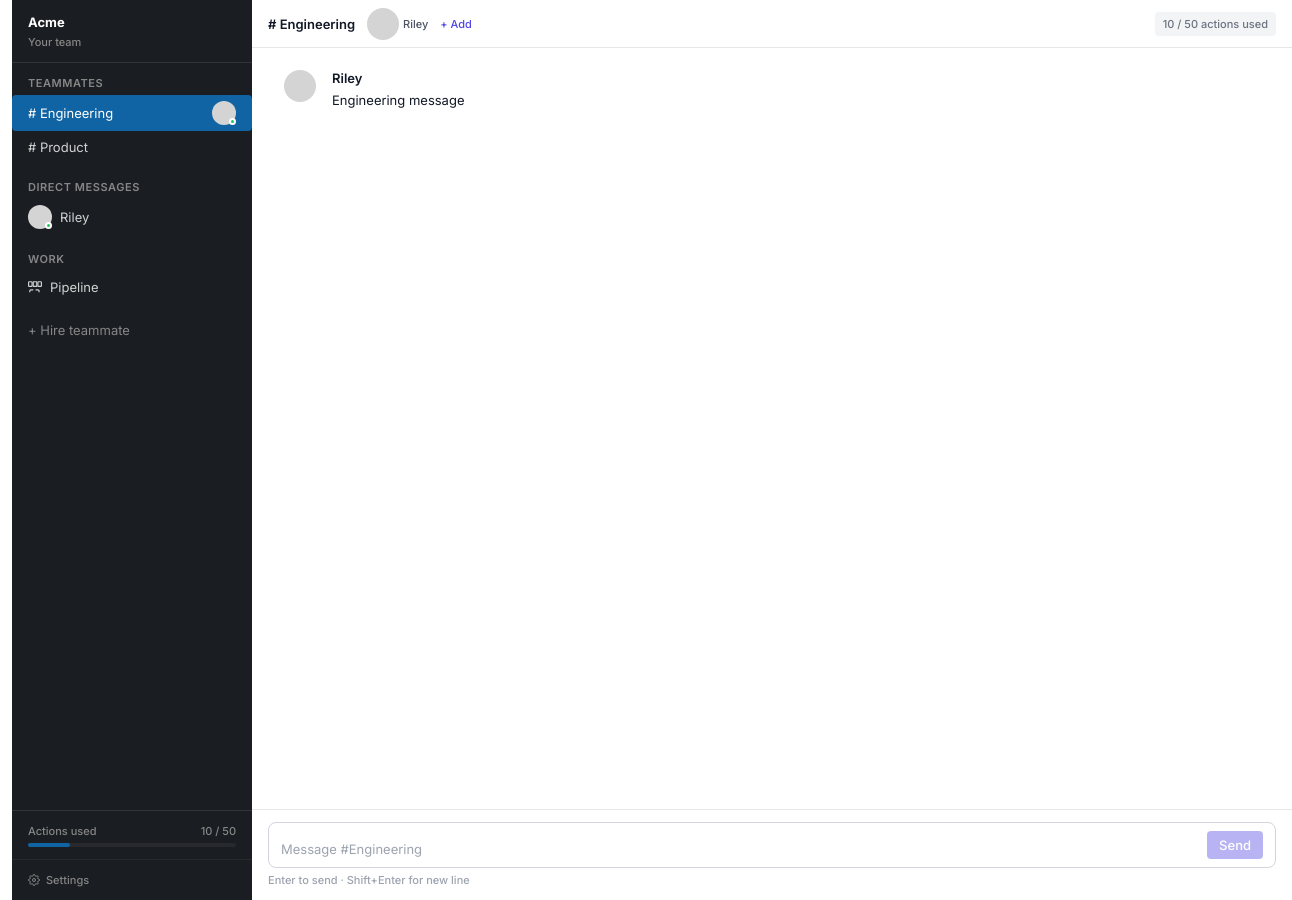
Test case: WorkspaceShell — channel switching › restores messages when switching back to a channel (regression guard)
Expected: the text "Engineering message" is shown, [332,92,464,108]
// Switch to #product
Click the button with test id "channel-ch-2": (132, 147) [12,131,252,163]
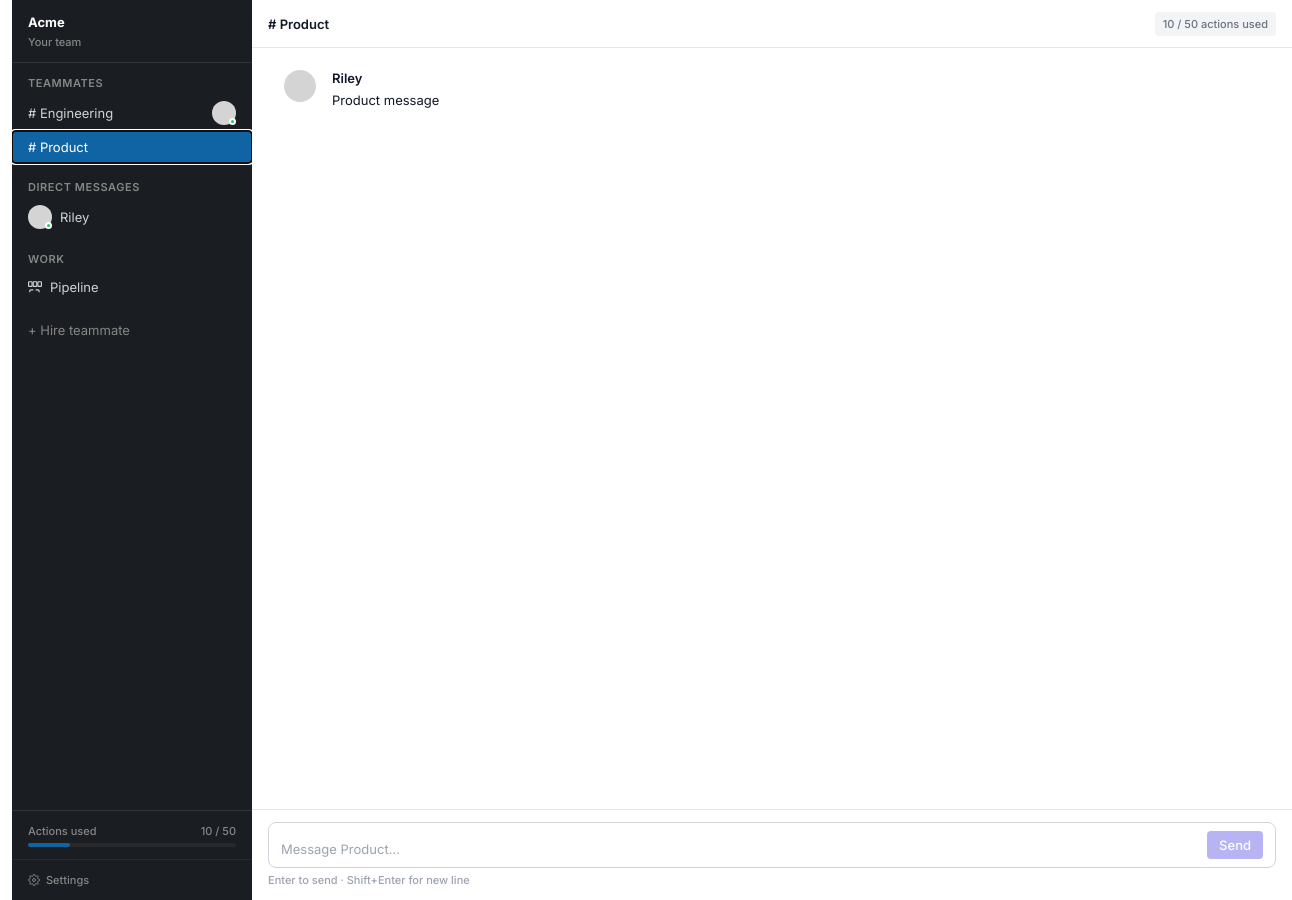
Expected: the text "Product message" is shown, [332,92,439,108]
Expected: the text "Engineering message" is gone
// Switch back to #engineering — messages MUST reappear
Click the button with test id "channel-ch-1": (132, 113) [12,95,252,131]
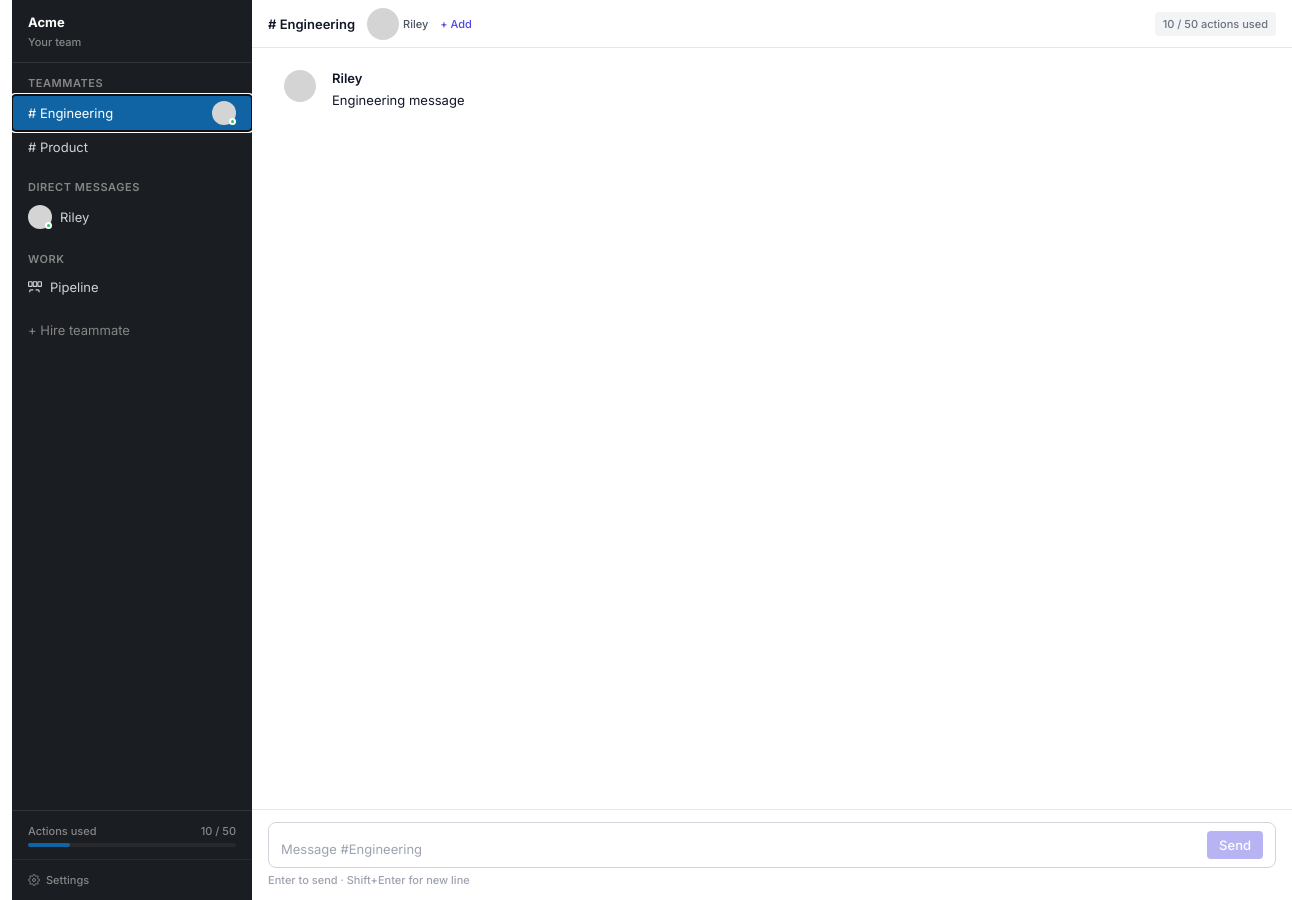
Expected: the text "Engineering message" is shown, [332,92,464,108]
Expected: the text "Product message" is gone
